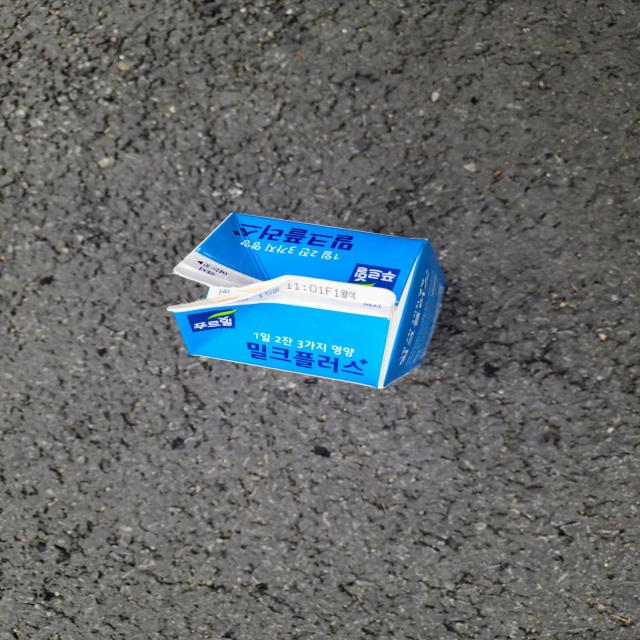paperpack: (167, 213, 446, 388)
